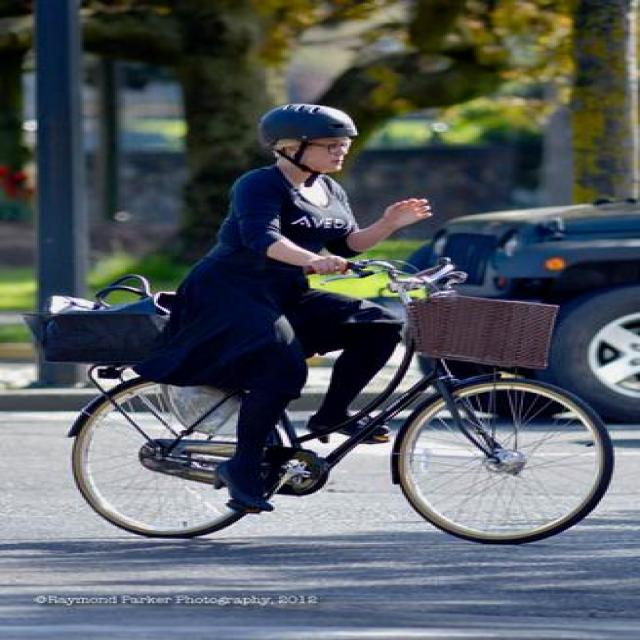bikerider: (33, 95, 619, 548)
